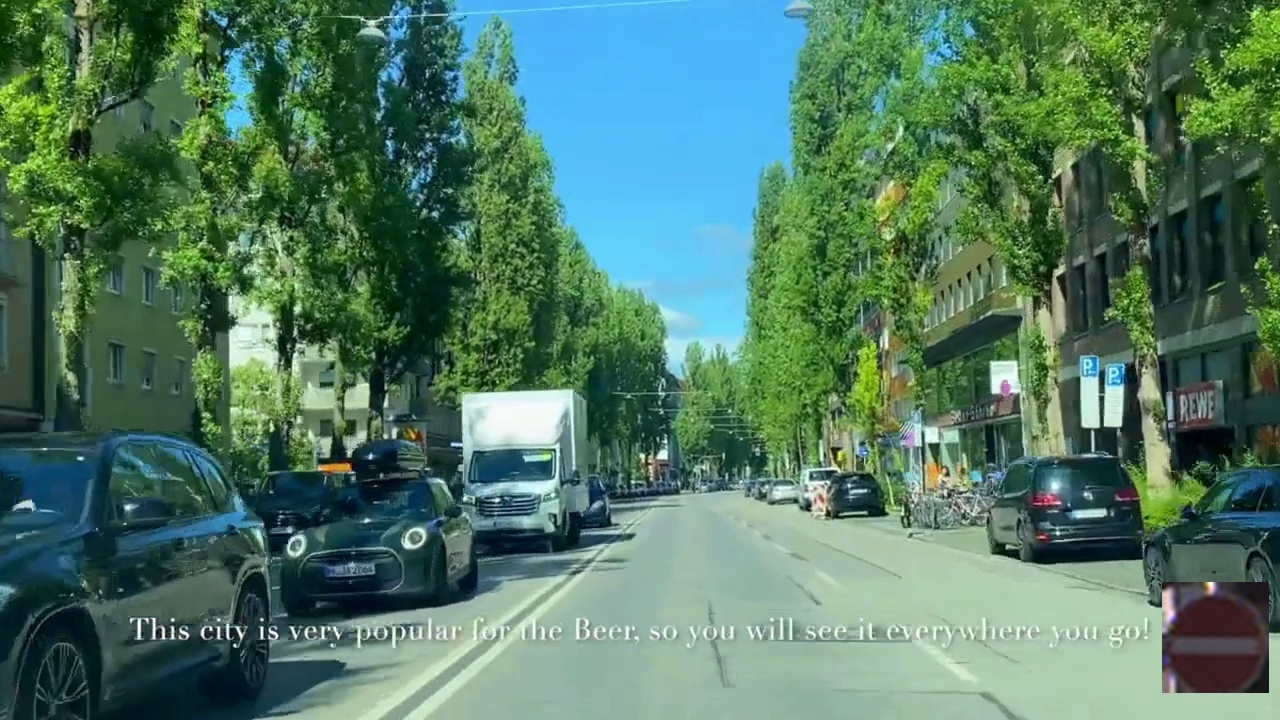No entry: (1162, 582, 1269, 693)
